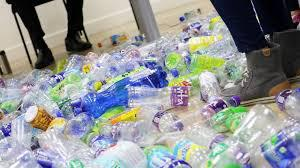Plastic: (125, 84, 201, 106)
